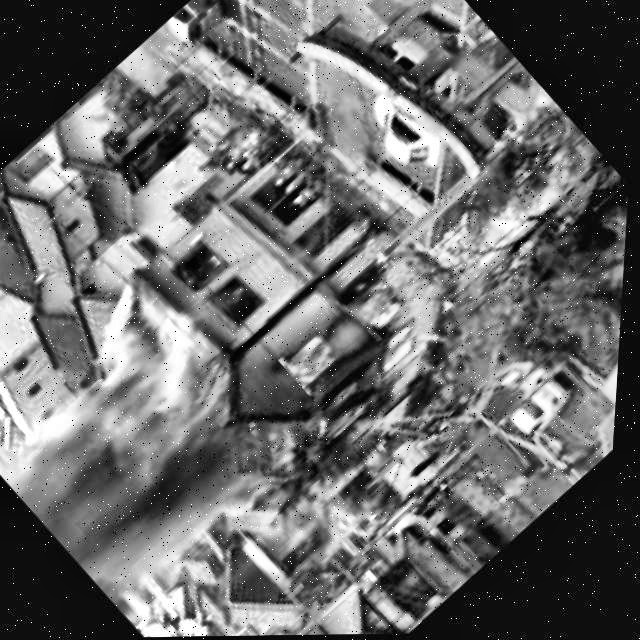Fire: (228, 267, 448, 476), (202, 271, 271, 337)
Smoke: (0, 314, 296, 604)
